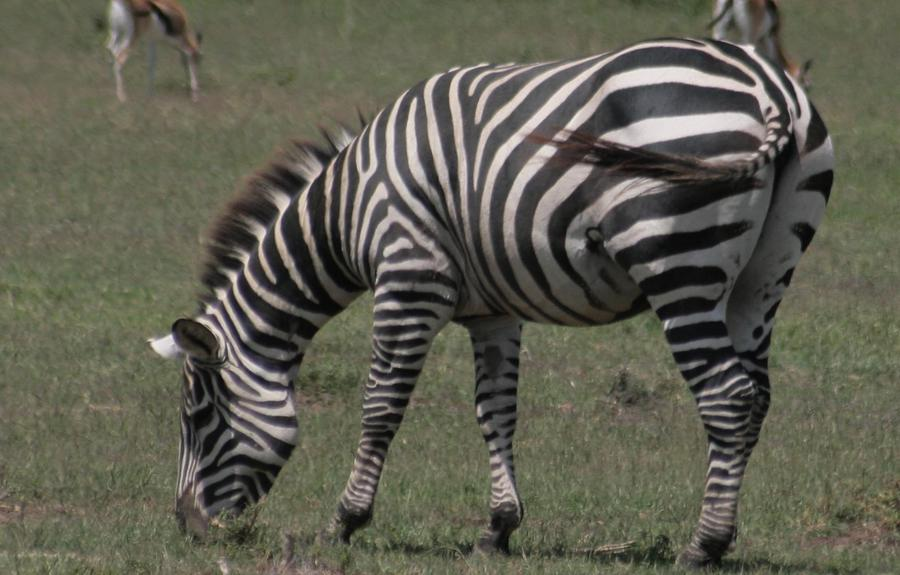zebra_plains: (321, 52, 766, 372)
